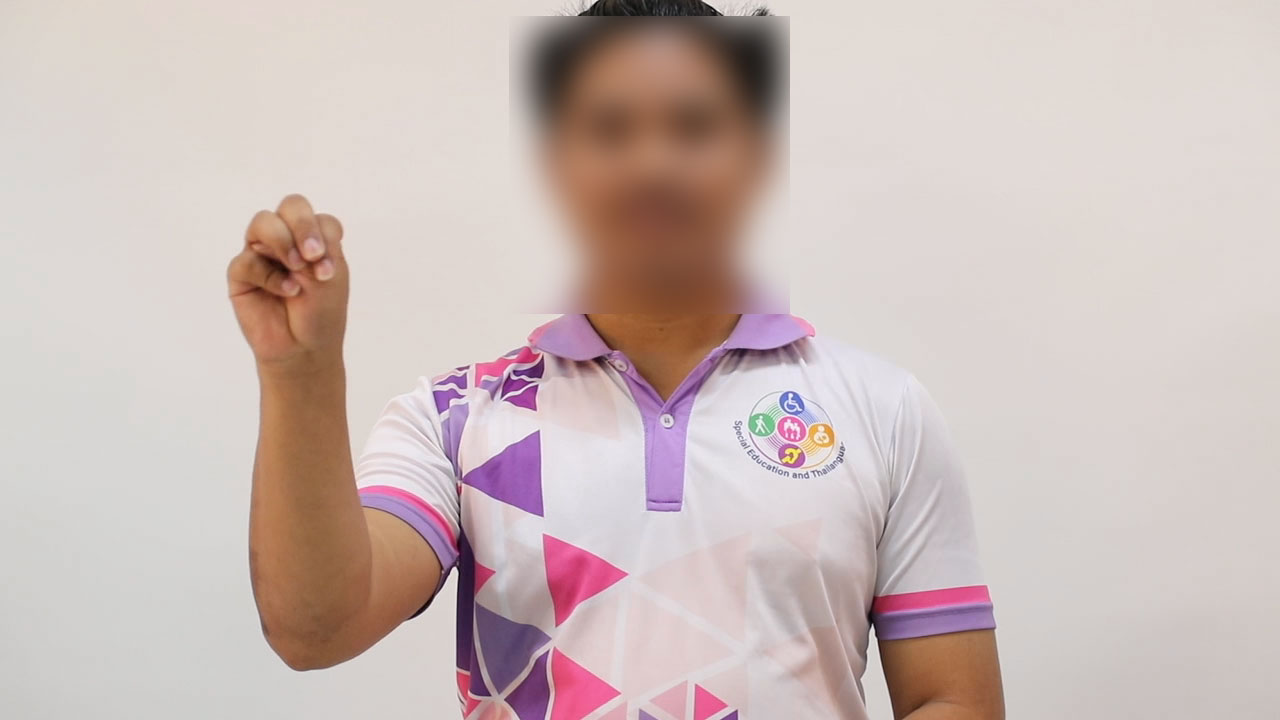mor: (205, 169, 393, 386)
